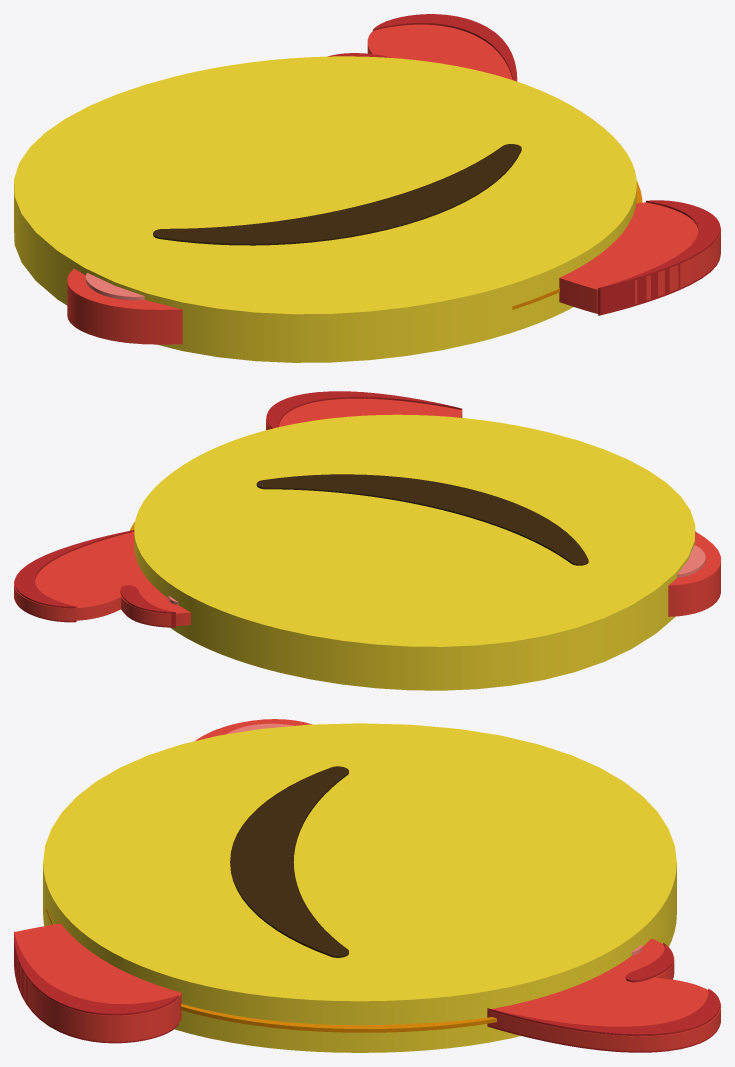
Rendered from emoji_u1f970.glb.
3 renders of one model, top to bottom at view 1: azimuth 30°, elevation 25°; view 2: azimuth 150°, elevation 25°; view 3: azimuth 270°, elevation 25°, orthographic. The views are drawn at different scales.
Visible parts, largest first — view 1: emoji_u1f970; view 2: emoji_u1f970; view 3: emoji_u1f970.
Boxes of the visible parts, left/top/right/bottom form: emoji_u1f970: left=14, top=14, right=720, bottom=362; emoji_u1f970: left=14, top=391, right=720, bottom=690; emoji_u1f970: left=14, top=719, right=720, bottom=1052.
Bounding box in the file's own units: 0.0356 × 0.003 × 0.0347.
